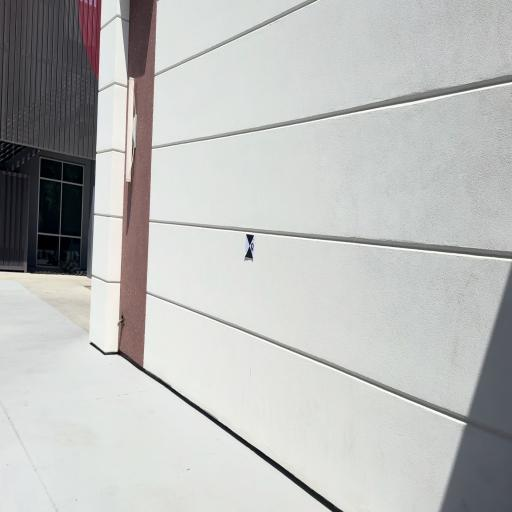target0: (245, 233, 254, 261)
